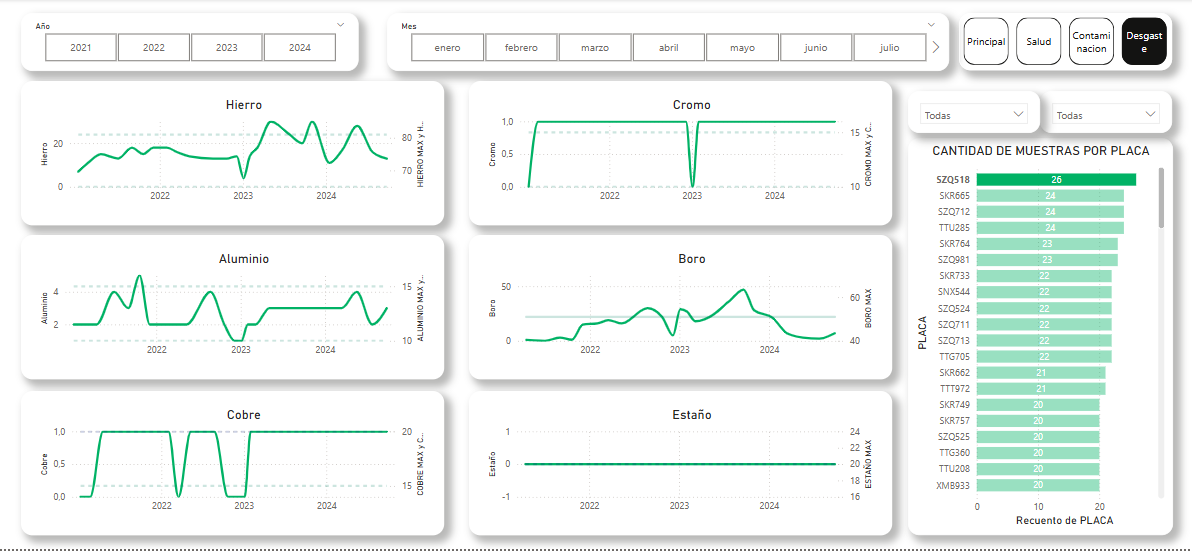

The page's visual inventory and layout, read from the dashboard file:
{"tool":"powerbi","page":{"name":"Desgaste","canvas":[1580,720],"ordinal":3},"visuals":[{"type":"slicer","fields":{"Values":["Historial.FECHA DE TOMA .Variación.Jerarquía de fechas.Año"]},"box":[40.3,18.5,441.8,75.6],"z":0},{"type":"slicer","fields":{"Values":["Historial.FECHA DE TOMA .Variación.Jerarquía de fechas.Mes"]},"box":[519.1,18.5,735.7,75.6],"z":1000},{"type":"pageNavigator","box":[1269.1,18.7,278.6,74.8],"z":2000},{"type":"barChart","title":"CANTIDAD DE MUESTRAS POR PLACA","fields":{"Category":["Historial.PLACA "],"Y":["CountNonNull(Historial.PLACA )"]},"box":[1201.1,181.8,346.6,519.9],"z":3000},{"type":"lineChart","title":"Hierro","fields":{"Y":["Avg(Historial.Fe� Hierro)"],"Category":["Historial.FECHA DE TOMA "],"Y2":["Avg(LIMITES.HIERRO_MAX)","Avg(LIMITES.HIERRO_MIN)"]},"box":[40.8,107,553.8,188.6],"z":5000},{"type":"lineChart","title":"Cromo","fields":{"Y":["Avg(Historial.Cr� Cromo)"],"Category":["Historial.FECHA DE TOMA "],"Y2":["Avg(LIMITES.CROMO_MAX)","Avg(LIMITES.CROMO_MIN)"]},"box":[626.9,107,553.8,188.6],"z":6000},{"type":"lineChart","title":"Aluminio","fields":{"Y":["Avg(Historial.Al� Aluminio)"],"Category":["Historial.FECHA DE TOMA "],"Y2":["Avg(LIMITES.ALUMINIO_MAX)","Avg(LIMITES.ALUMINIO_MIN)"]},"box":[40.8,309.2,553.8,188.6],"z":7000},{"type":"lineChart","title":"Boro","fields":{"Y":["Sum(Historial.B� Boro)"],"Category":["Historial.FECHA DE TOMA "],"Y2":["Avg(LIMITES.BORO_MAX)"]},"box":[626.9,309.2,553.8,188.6],"z":8000},{"type":"lineChart","title":"Cobre","fields":{"Y":["Avg(Historial.Cu� Cobre)"],"Category":["Historial.FECHA DE TOMA "],"Y2":["Avg(LIMITES.COBRE_MAX)","Avg(LIMITES.COBRE_MIN)"]},"box":[40.8,513.1,553.8,188.6],"z":9000},{"type":"lineChart","title":"Estaño","fields":{"Y":["Avg(Historial.Sn� Estaño)"],"Category":["Historial.FECHA DE TOMA "],"Y2":["Avg(LIMITES.ESTAÑO_MAX)"]},"box":[626.9,513.1,553.8,188.6],"z":10000},{"type":"slicer","fields":{"Values":["Historial.PLACA "]},"box":[1375,120,173.3,55],"z":10001},{"type":"slicer","fields":{"Values":["Historial.ESTADO "]},"box":[1201.7,120,173.3,55],"z":10002}]}

Visuals, with their boxes in screenshot pixels (x1, y1, x2, y2), scaled from the page's 1580x720 canvas onto the 1192x551 screenshot:
slicer - Historial.FECHA DE TOMA .Variación.Jerarquía de fechas.Año: pyautogui.locateOnScreen(30, 14, 364, 72)
slicer - Historial.FECHA DE TOMA .Variación.Jerarquía de fechas.Mes: pyautogui.locateOnScreen(392, 14, 947, 72)
pageNavigator: pyautogui.locateOnScreen(957, 14, 1168, 72)
"CANTIDAD DE MUESTRAS POR PLACA" barChart: pyautogui.locateOnScreen(906, 139, 1168, 537)
"Hierro" lineChart: pyautogui.locateOnScreen(31, 82, 449, 226)
"Cromo" lineChart: pyautogui.locateOnScreen(473, 82, 891, 226)
"Aluminio" lineChart: pyautogui.locateOnScreen(31, 237, 449, 381)
"Boro" lineChart: pyautogui.locateOnScreen(473, 237, 891, 381)
"Cobre" lineChart: pyautogui.locateOnScreen(31, 393, 449, 537)
"Estaño" lineChart: pyautogui.locateOnScreen(473, 393, 891, 537)
slicer - Historial.PLACA : pyautogui.locateOnScreen(1037, 92, 1168, 134)
slicer - Historial.ESTADO : pyautogui.locateOnScreen(907, 92, 1037, 134)
